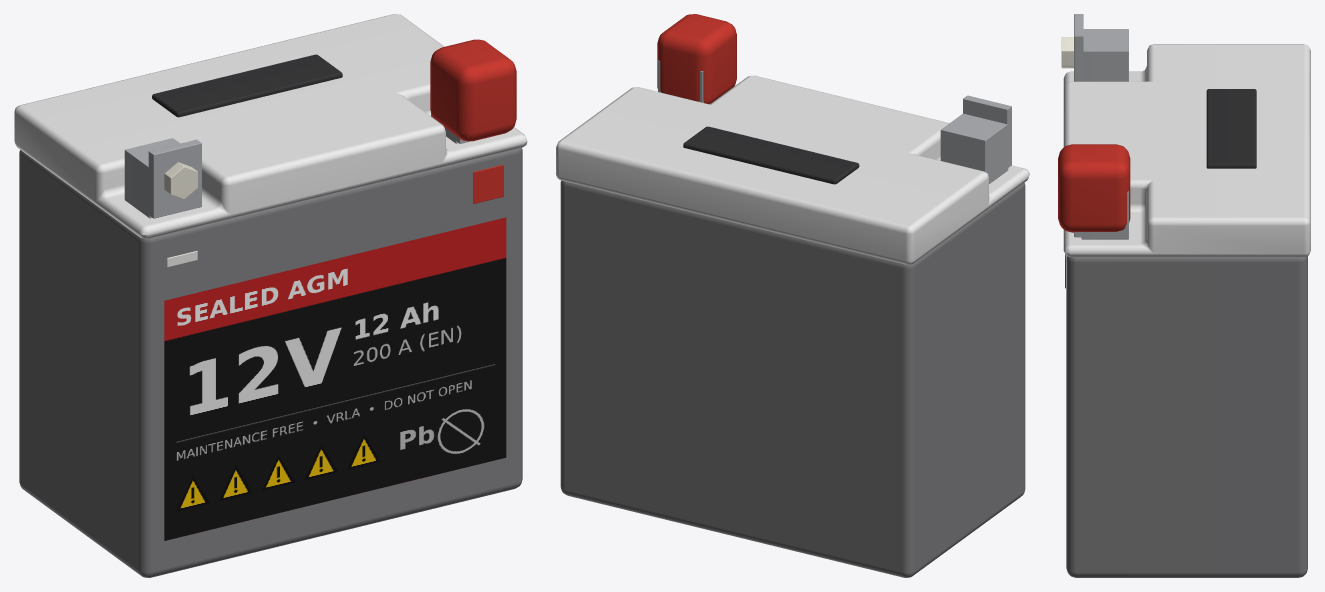
File: battery_12v.glb
3 renders of one model, left to right at view 1: azimuth 30°, elevation 25°; view 2: azimuth 150°, elevation 25°; view 3: azimuth 270°, elevation 25°, orthographic. The views are drawn at different scales.
Visible parts, largest first — view 1: battery_12v__case, battery_12v__label, battery_12v__lid, battery_12v__positive_cover, battery_12v__terminals, battery_12v__vent_strip; view 2: battery_12v__case, battery_12v__lid, battery_12v__positive_cover, battery_12v__terminals, battery_12v__vent_strip; view 3: battery_12v__case, battery_12v__lid, battery_12v__positive_cover, battery_12v__vent_strip, battery_12v__terminals.
Part boxes in pixels (box(x1,y1,x2,y2)): battery_12v__case: box(19, 147, 522, 577); battery_12v__label: box(164, 217, 506, 540); battery_12v__lid: box(14, 14, 527, 238); battery_12v__positive_cover: box(430, 39, 516, 141); battery_12v__terminals: box(124, 113, 507, 267); battery_12v__vent_strip: box(152, 54, 342, 117); battery_12v__case: box(560, 180, 1025, 577); battery_12v__lid: box(556, 75, 1029, 264); battery_12v__positive_cover: box(657, 14, 736, 103); battery_12v__terminals: box(658, 60, 1011, 183); battery_12v__vent_strip: box(683, 126, 859, 184); battery_12v__case: box(1066, 256, 1307, 577); battery_12v__lid: box(1063, 44, 1310, 257); battery_12v__positive_cover: box(1058, 144, 1130, 232); battery_12v__vent_strip: box(1206, 89, 1256, 168); battery_12v__terminals: box(1061, 14, 1128, 288).
Size of the model in its own units: 15.2 by 16.3 by 9.1.
Materials: 8 (1 with a texture image).
